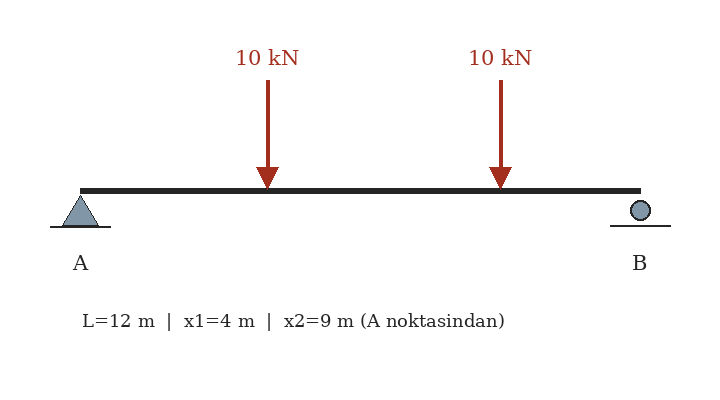pin_support: (61, 190, 99, 226)
point_load: (253, 76, 281, 190), (486, 76, 514, 190)
roller_support: (625, 196, 655, 227)
